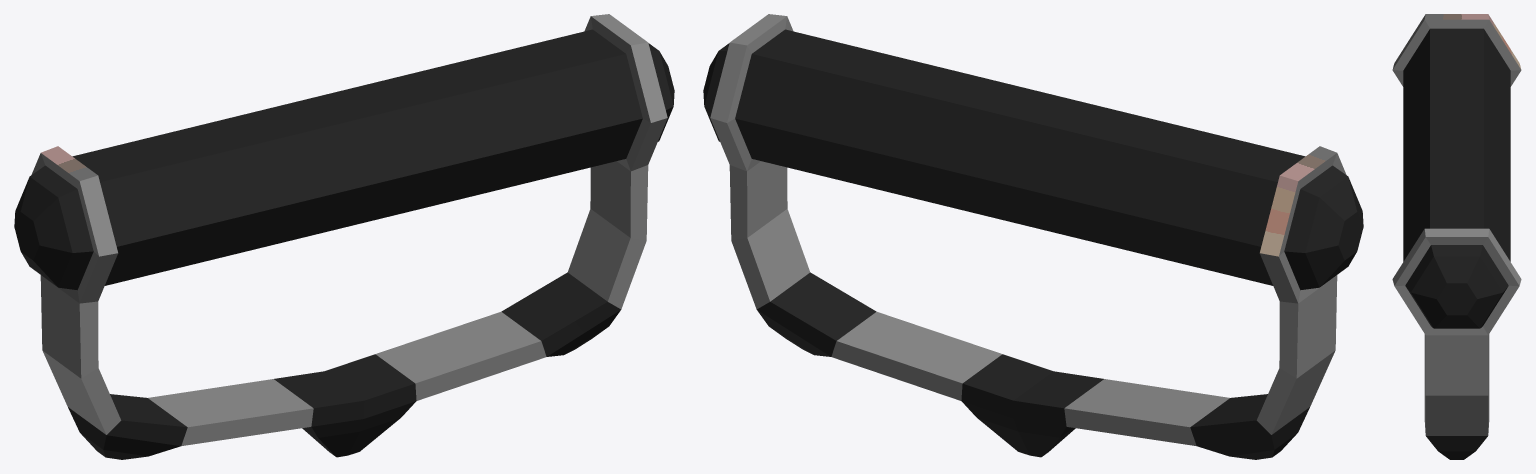
The model's file is brass knuckles.fbx.
3 views of the same model, side by side, from view 1: azimuth 30°, elevation 25°; view 2: azimuth 150°, elevation 25°; view 3: azimuth 270°, elevation 25° (orthographic). The views are drawn at different scales.
Visible parts, largest first — view 1: Tekko; view 2: Tekko; view 3: Tekko.
Boxes of the visible parts, x1,y1,x2,y2 form: Tekko: [14, 14, 674, 459]; Tekko: [703, 14, 1363, 459]; Tekko: [1392, 14, 1521, 459].
Bounding box in the file's own units: 15.24 × 8.19 × 3.34.
